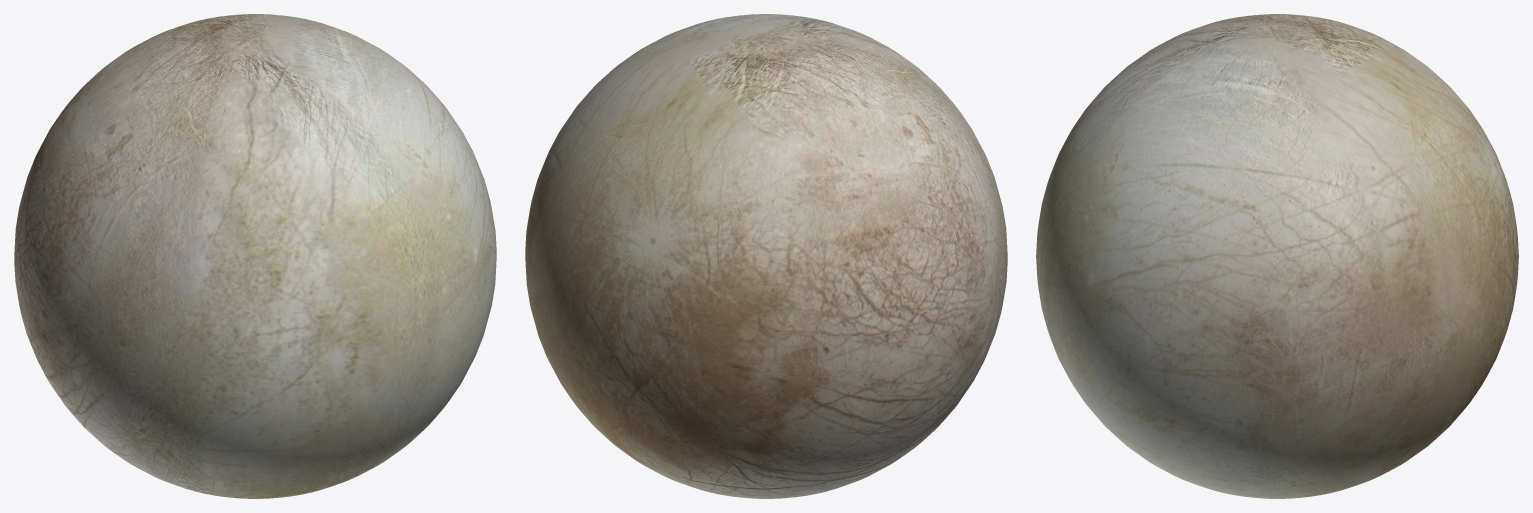
File: europa.glb
The picture shows the model from 3 angles, left to right: view 1: azimuth 30°, elevation 25°; view 2: azimuth 150°, elevation 25°; view 3: azimuth 270°, elevation 25°; orthographic projection.
Parts seen in each view (by area): view 1: Sphere; view 2: Sphere; view 3: Sphere.
Part boxes in pixels (x1,y1,x2,y2): Sphere: (14, 14, 496, 498); Sphere: (525, 14, 1007, 498); Sphere: (1036, 14, 1518, 498).
Size of the model in its own units: 1.97 by 2 by 1.97.
1 material, 1 textured.
